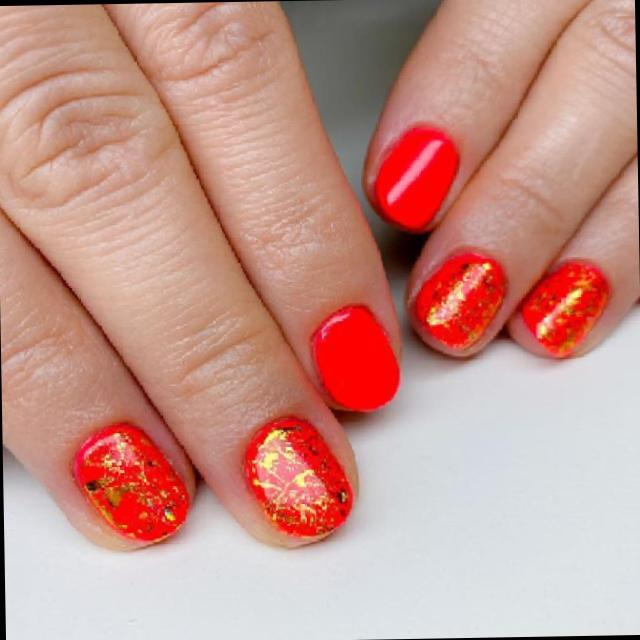Nail: (74, 423, 188, 541), (245, 417, 353, 537), (313, 305, 400, 410), (374, 127, 458, 230), (520, 260, 610, 356), (415, 254, 506, 348)
